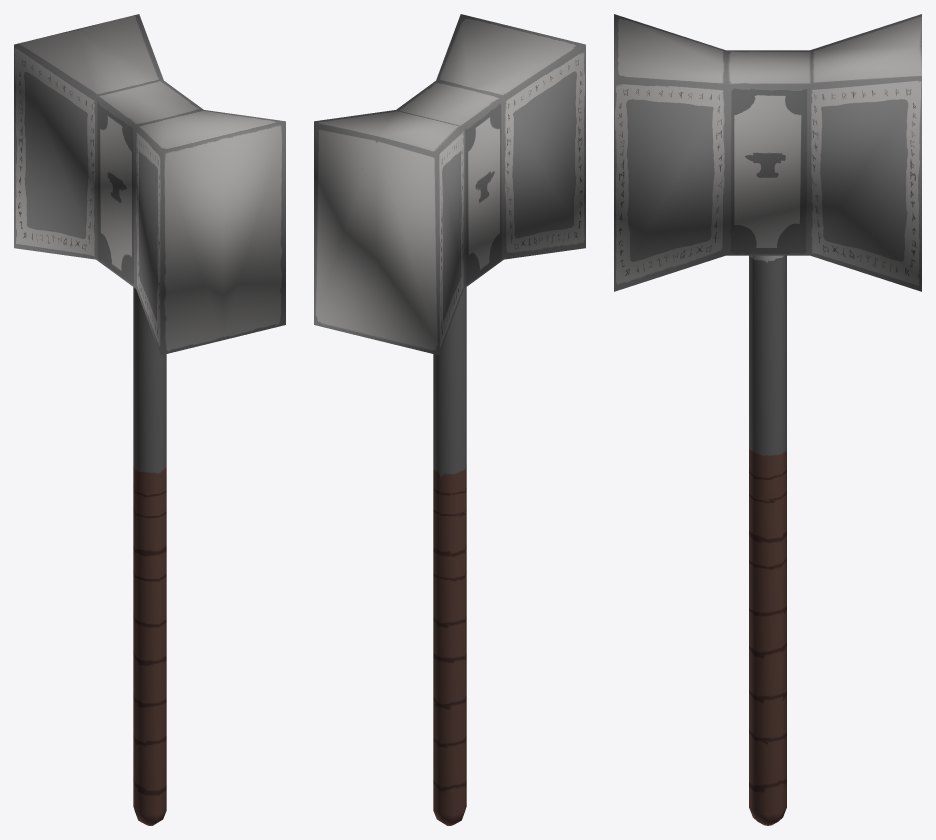
File: MeleeHobbes.fbx
3 views of the same model, side by side, from view 1: azimuth 30°, elevation 25°; view 2: azimuth 150°, elevation 25°; view 3: azimuth 270°, elevation 25° (orthographic). The views are drawn at different scales.
Visible parts, largest first — view 1: Circle; view 2: Circle; view 3: Circle.
Boxes of the visible parts, box(x1,y1,x2,y2) form: Circle: box(14, 14, 285, 825); Circle: box(314, 14, 585, 825); Circle: box(614, 14, 921, 825).
Size of the model in its own units: 21.91 by 124 by 44.47.
